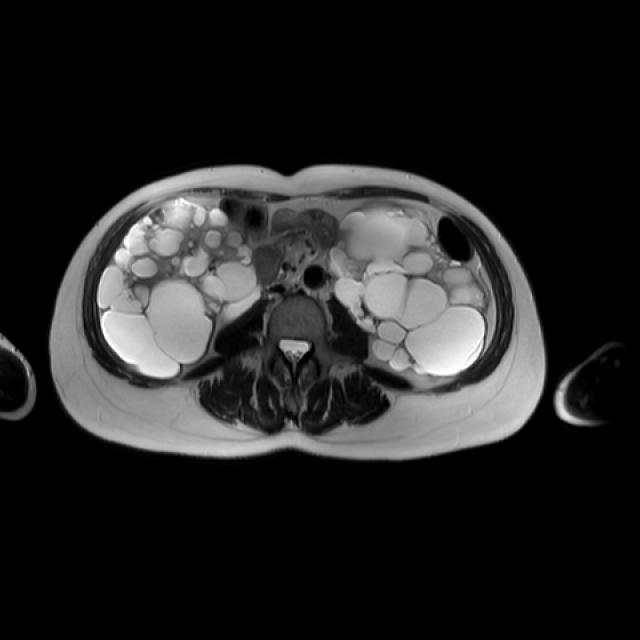sag: (99, 198, 259, 377)
sol: (333, 208, 487, 377)
